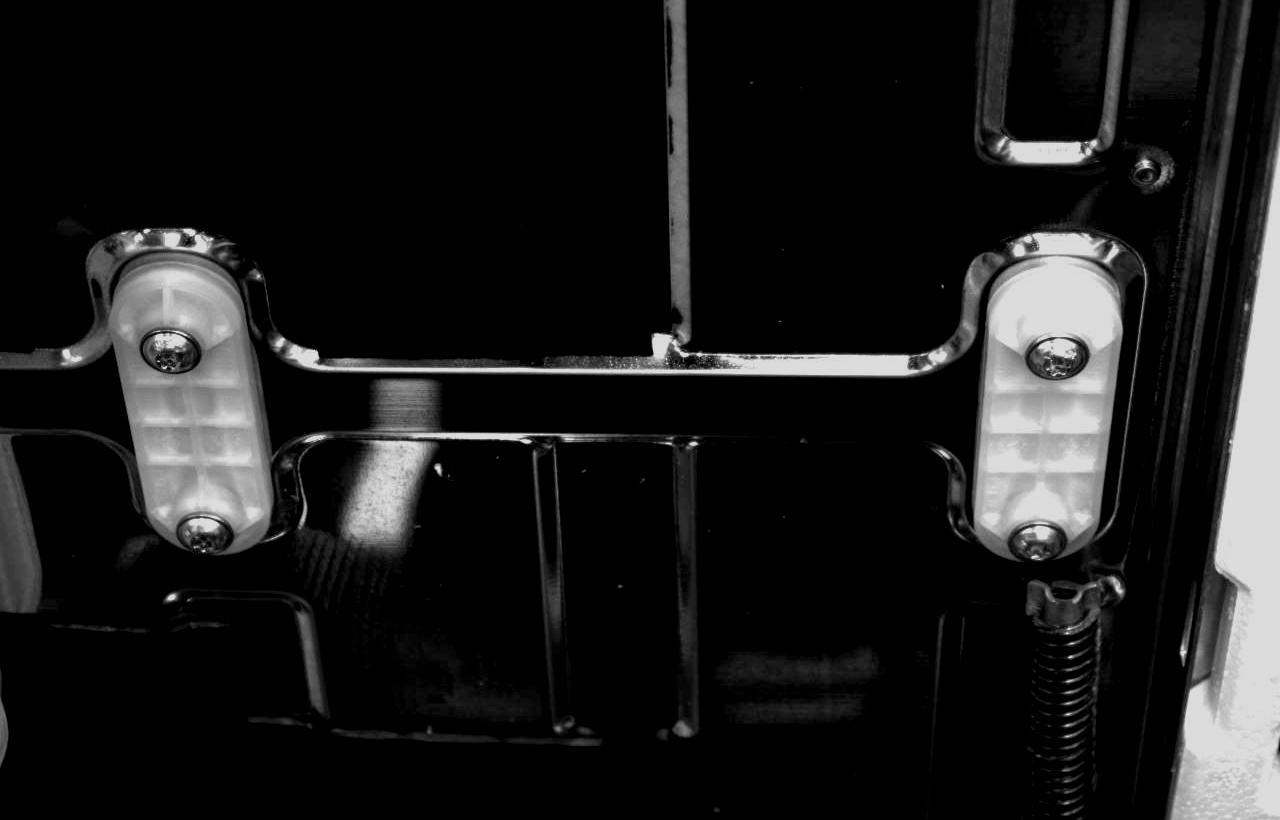vida-ok: (133, 315, 204, 382), (1024, 329, 1091, 397), (173, 508, 239, 567), (1009, 509, 1074, 568)
